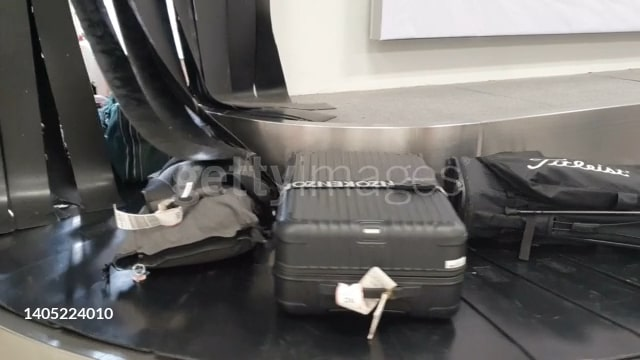baggage: (270, 149, 472, 325), (116, 145, 267, 290), (435, 153, 640, 257)
